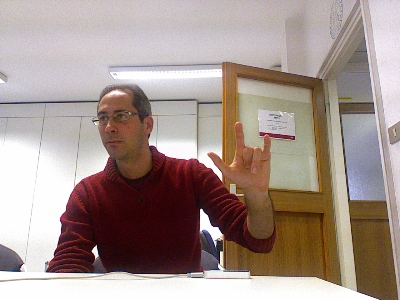我爱你: (206, 121, 271, 191)
